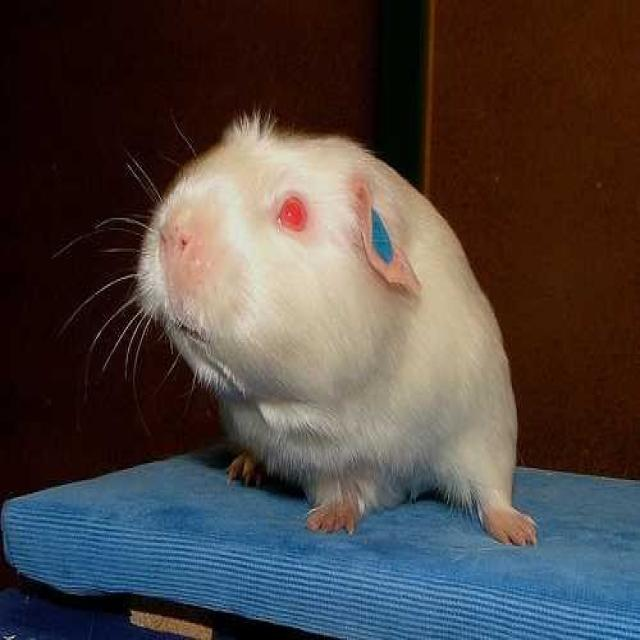guinea pig: (135, 127, 542, 556)
